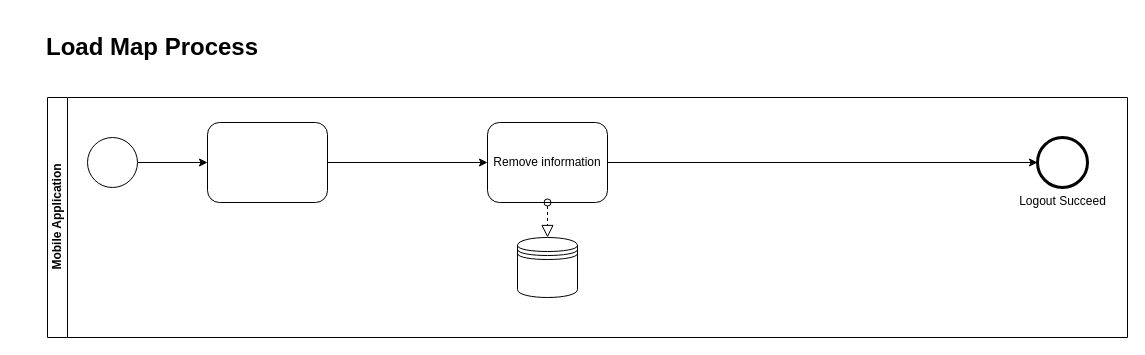
The diagram is 1145 pixels wide and 355 high, and some of its shapes have lost their labels. The box of each missing label's shape, as (x1, y1, x2, y2) in pixels:
confirm to logout: (206, 122, 328, 202)
Start: (86, 136, 138, 188)
